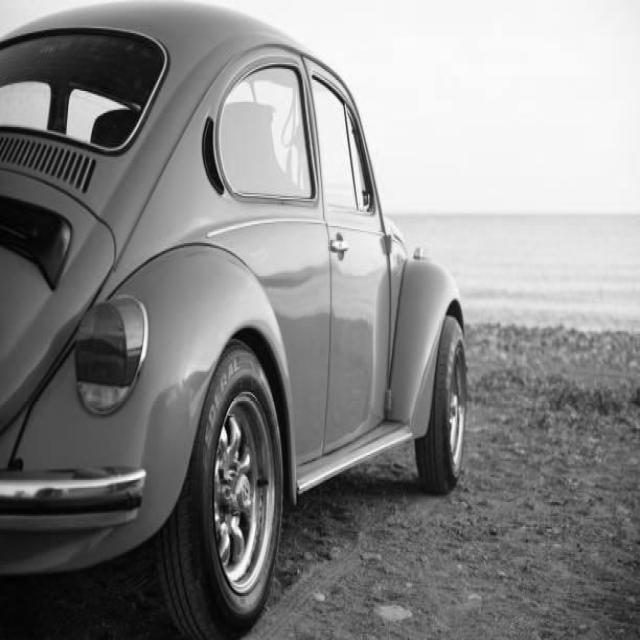car: (0, 0, 465, 627)
